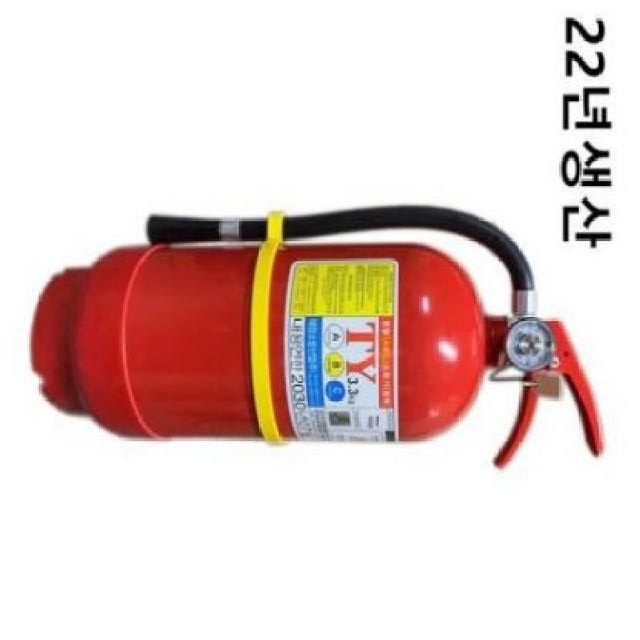fire extinguisher: (29, 203, 606, 469)
